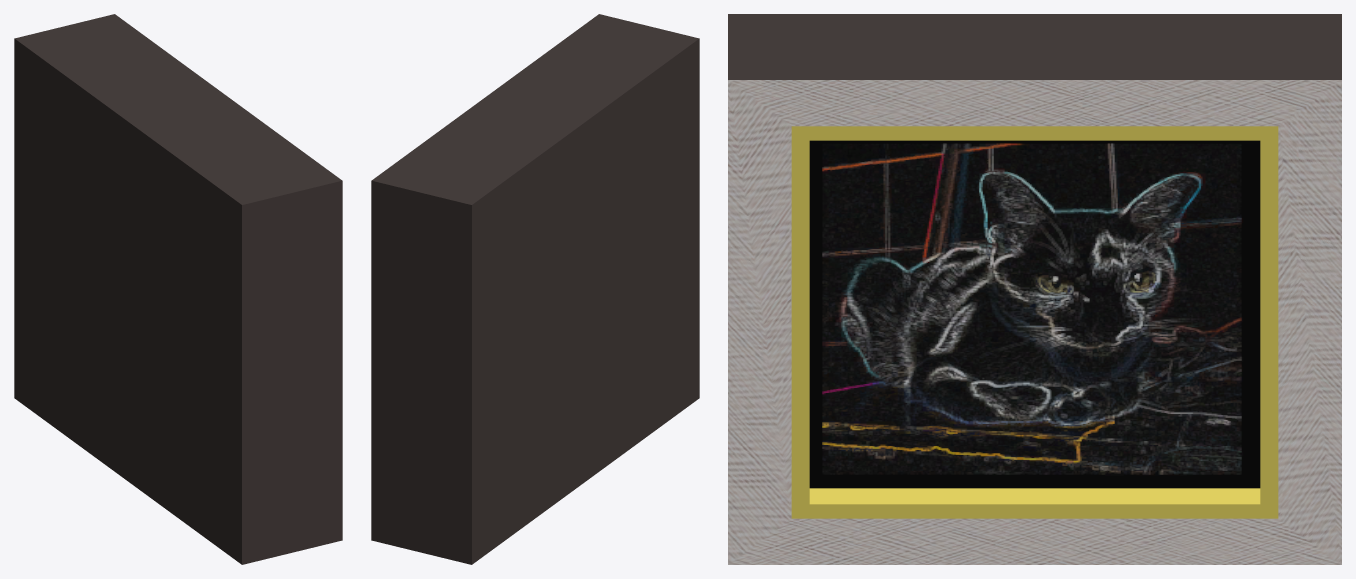
Rendered from Painting_Framed_5.fbx.
The picture shows the model from 3 angles, left to right: view 1: azimuth 30°, elevation 25°; view 2: azimuth 150°, elevation 25°; view 3: azimuth 270°, elevation 25°; orthographic projection. The views are drawn at different scales.
Visible parts, largest first — view 1: Painting_5; view 2: Painting_5; view 3: Painting_5.
Part boxes in pixels (<box>): Painting_5: <box>14,14,342,564</box>; Painting_5: <box>371,14,699,564</box>; Painting_5: <box>728,14,1341,564</box>.
Size of the model in its own units: 32.75 by 112 by 129.
